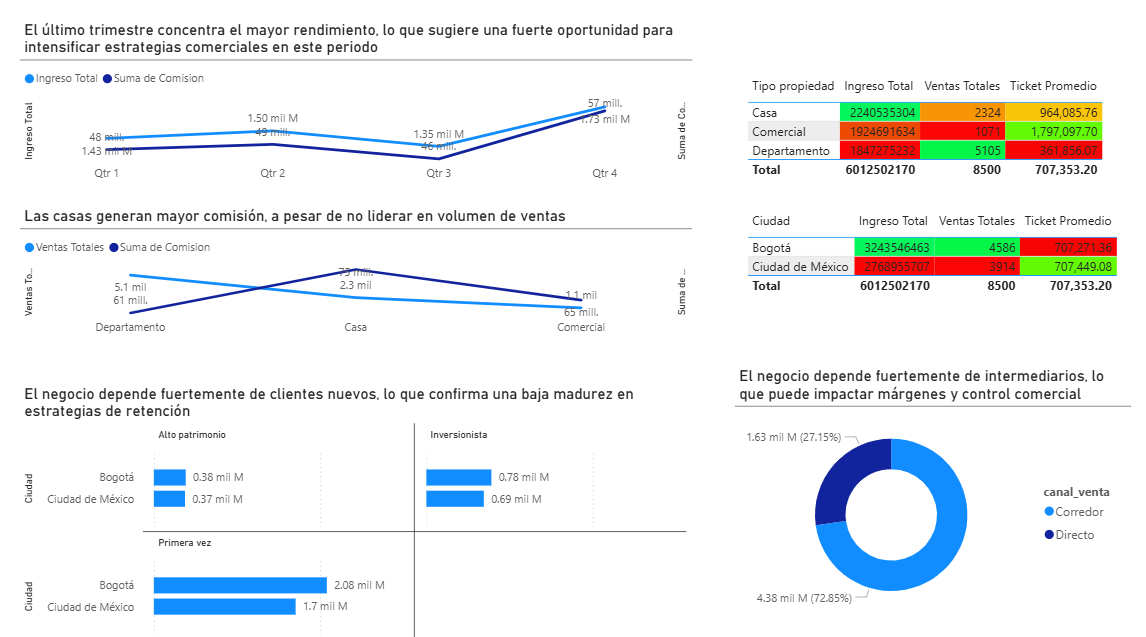

This screenshot's page, from the dashboard's own definition file:
{"tool":"powerbi","page":{"name":"Análisis Comercial","canvas":[1280,720],"ordinal":1},"visuals":[{"type":"tableEx","fields":{"Values":["dim_propiedades.tipo_propiedad","hecho_ventas_propiedades.Ingreso Total","hecho_ventas_propiedades.Ventas Totales","hecho_ventas_propiedades.Ticket Promedio"]},"box":[829.8,90.7,428.2,129.7],"z":0},{"type":"tableEx","fields":{"Values":["dim_clientes.ciudad","hecho_ventas_propiedades.Ingreso Total","hecho_ventas_propiedades.Ventas Totales","hecho_ventas_propiedades.Ticket Promedio"]},"box":[829.8,238.5,428.2,113],"z":1000},{"type":"clusteredBarChart","title":"El negocio depende fuertemente de clientes nuevos, lo que confirma una baja madurez en estrategias de retención","fields":{"Category":["dim_clientes.Ciudad"],"Y":["hecho_ventas_propiedades.Ingreso Total"],"Rows":["dim_clientes.Comprador"]},"box":[37.7,433.7,737.8,287.3],"z":2000},{"type":"donutChart","title":"El negocio depende fuertemente de intermediarios, lo que puede impactar márgenes y control comercial","fields":{"Category":["hecho_ventas_propiedades.canal_venta"],"Y":["hecho_ventas_propiedades.Ingreso Total"]},"box":[822,414.4,435,279.9],"z":3000},{"type":"lineChart","title":"El último trimestre concentra el mayor rendimiento, lo que sugiere una fuerte oportunidad para intensificar estrategias comerciales en este periodo","fields":{"Category":["dim_fecha.Date.Variación.Jerarquía de fechas.Trimestre"],"Y":["hecho_ventas_propiedades.Ingreso Total"],"Y2":["Sum(hecho_ventas_propiedades.monto_comision)"]},"box":[37,34.3,738.3,185.2],"z":4000},{"type":"lineChart","title":"Las casas generan mayor comisión, a pesar de no liderar en volumen de ventas","fields":{"Category":["dim_propiedades.Tipo de propiedad"],"Y2":["Sum(hecho_ventas_propiedades.monto_comision)"],"Y":["hecho_ventas_propiedades.Ventas Totales"]},"box":[37,238.8,738.3,149.6],"z":5000}]}

Visuals, with their boxes in screenshot pixels (x1, y1, x2, y2), scaled from the page's 1280x720 canvas onto the 1146x637 screenshot:
tableEx - dim_propiedades.tipo_propiedad x hecho_ventas_propiedades.Ingreso Total: crop(743, 80, 1126, 195)
tableEx - dim_clientes.ciudad x hecho_ventas_propiedades.Ingreso Total: crop(743, 211, 1126, 311)
"El negocio depende fuertemente de clientes nuevos, lo que confirma una baja madurez en estrategias de retención" clusteredBarChart: crop(34, 384, 694, 636)
"El negocio depende fuertemente de intermediarios, lo que puede impactar márgenes y control comercial" donutChart: crop(736, 367, 1125, 614)
"El último trimestre concentra el mayor rendimiento, lo que sugiere una fuerte oportunidad para intensificar estrategias comerciales en este periodo" lineChart: crop(33, 30, 694, 194)
"Las casas generan mayor comisión, a pesar de no liderar en volumen de ventas" lineChart: crop(33, 211, 694, 344)
